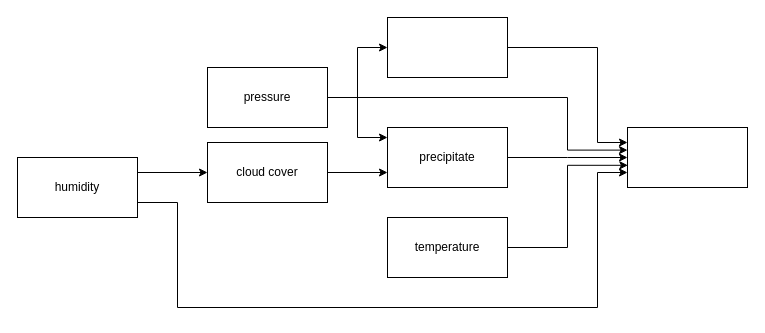
Image size: 765x333. Some labels were removed from this diagram. Here are the shapes that lost their labels. From the top down, the centre of each, then its label:
At [447,47]: "wind speed".
At [687,157]: "smog".
